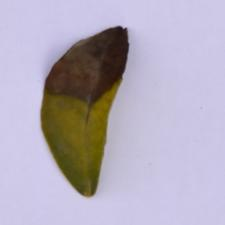Black: (38, 17, 160, 113)
